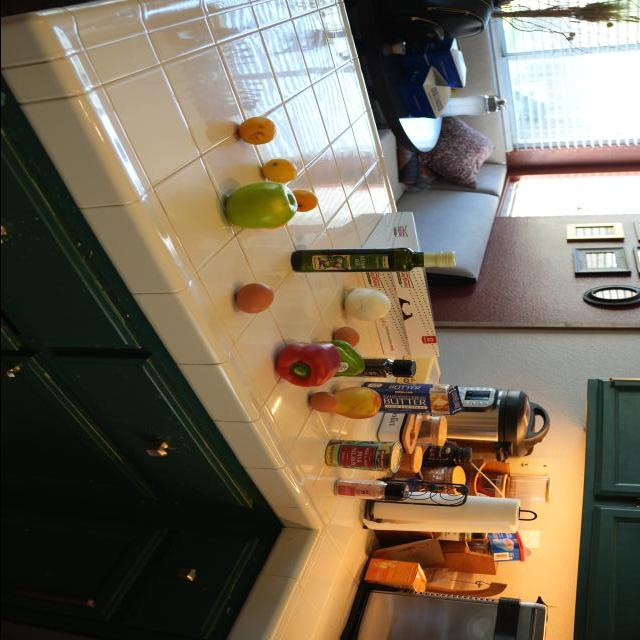bell_pepper: (279, 341, 338, 385), (344, 356, 418, 383), (325, 344, 367, 382)
egg: (233, 284, 279, 316), (333, 329, 363, 348), (303, 398, 332, 414)
onion: (343, 289, 393, 322)
